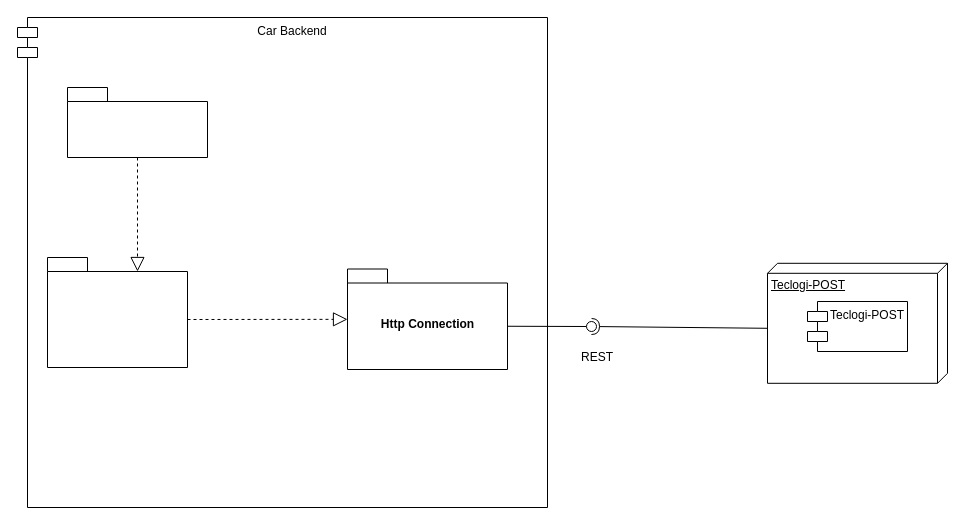
Image size: 965x525. Some labels were removed from this diagram. The shapes that lost their labels are listed below. From the top down, each one's centre as x and y in pixels, then its label:
point (137, 122): Car Controller
point (117, 312): Car Service
